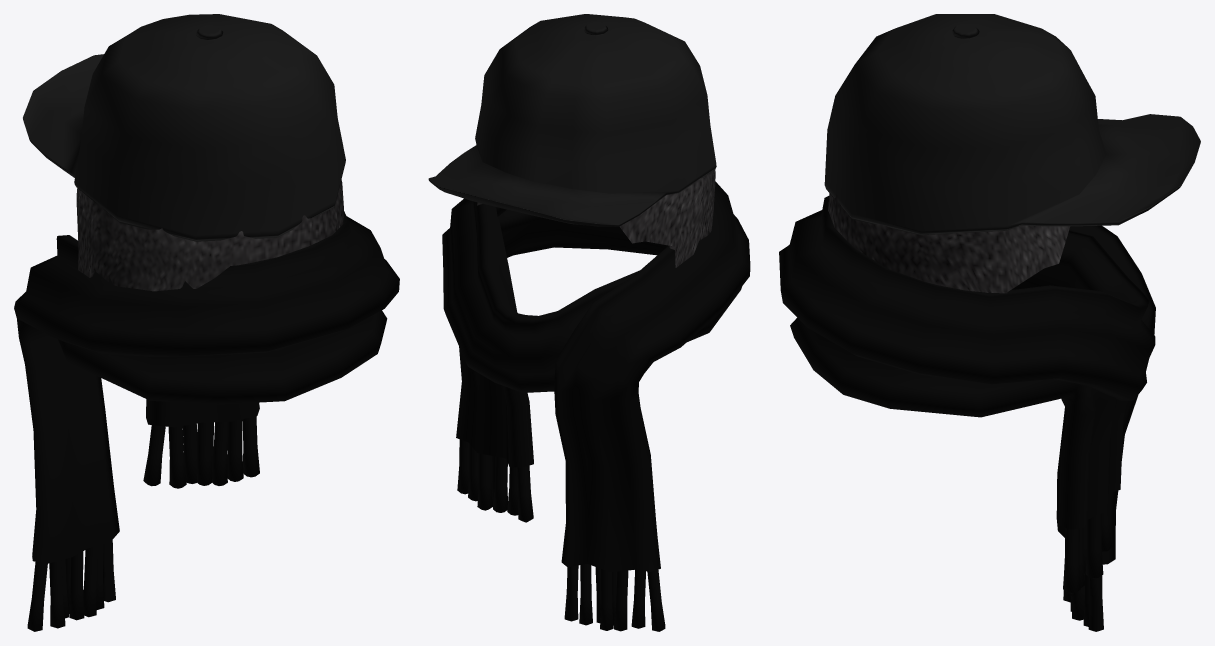
File: acc.glb
3 views of the same model, side by side, from view 1: azimuth 30°, elevation 25°; view 2: azimuth 150°, elevation 25°; view 3: azimuth 270°, elevation 25° (orthographic). The views are drawn at different scales.
Parts seen in each view (by area): view 1: Handle.002, Handle, Handle.001; view 2: Handle.002, Handle, Handle.001; view 3: Handle.002, Handle, Handle.001.
Boxes of the visible parts, x1,y1,x2,y2 form: Handle.002: (14, 211, 399, 631); Handle: (23, 14, 345, 241); Handle.001: (76, 179, 343, 291); Handle.002: (442, 181, 750, 631); Handle: (428, 14, 716, 226); Handle.001: (477, 170, 715, 267); Handle.002: (779, 196, 1155, 631); Handle: (824, 14, 1200, 235); Handle.001: (828, 193, 1070, 293).
Size of the model in its own units: 1.69 by 3.18 by 1.95.
Materials: 3 (2 with a texture image).
